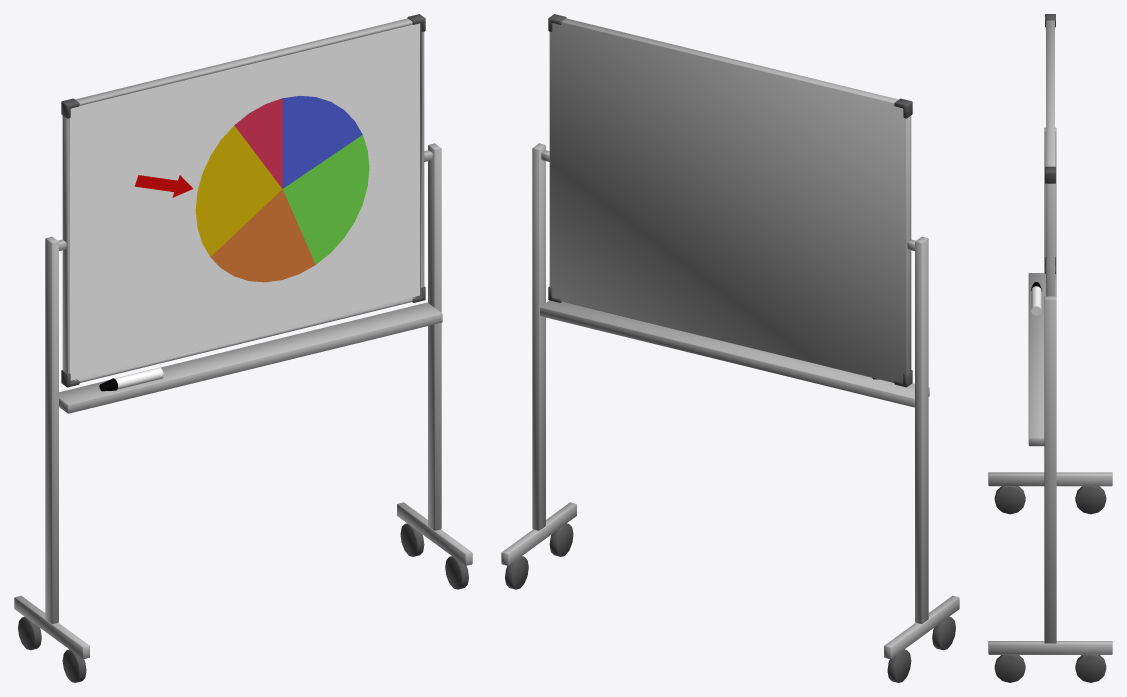
Rendered from white_board.fbx.
The picture shows the model from 3 angles, left to right: view 1: azimuth 30°, elevation 25°; view 2: azimuth 150°, elevation 25°; view 3: azimuth 270°, elevation 25°; orthographic projection. The views are drawn at different scales.
Parts seen in each view (by area): view 1: board, Circle, leg, rail, caster, magic, corner, Plane; view 2: board, leg, rail, caster, corner; view 3: leg, caster, rail, board, magic, corner.
Part boxes in pixels (x1,y1,x2,y2): board: (62, 18, 424, 382); Circle: (195, 95, 369, 282); leg: (14, 143, 472, 659); rail: (59, 302, 442, 413); caster: (18, 523, 468, 682); magic: (99, 367, 163, 391); corner: (61, 14, 425, 387); Plane: (134, 175, 192, 197); board: (549, 18, 911, 382); leg: (501, 143, 959, 659); rail: (540, 300, 929, 407); caster: (505, 523, 955, 682); corner: (548, 14, 912, 387); leg: (988, 127, 1112, 654); caster: (994, 486, 1106, 682); rail: (1028, 273, 1056, 446); board: (1046, 20, 1054, 296); magic: (1030, 282, 1041, 315); corner: (1045, 14, 1055, 273).
Size of the model in its own units: 131 by 179 by 40.
